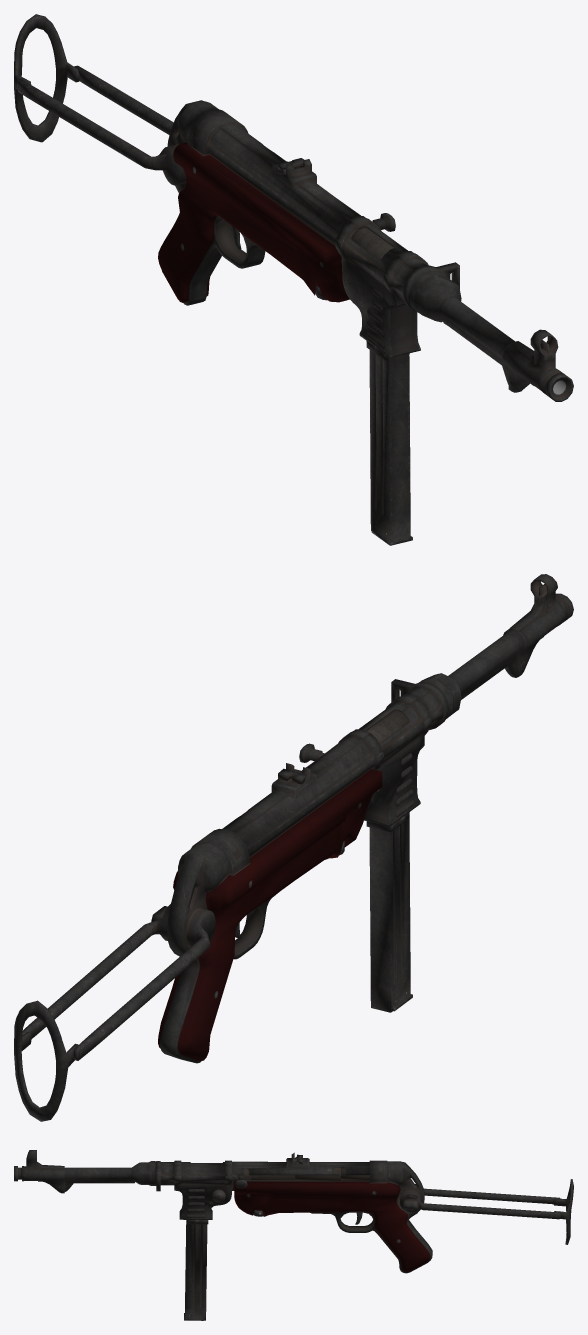
3 renders of one model, top to bottom at view 1: azimuth 30°, elevation 25°; view 2: azimuth 150°, elevation 25°; view 3: azimuth 270°, elevation 25°, orthographic. The views are drawn at different scales.
Parts seen in each view (by area): view 1: korpus_low_Cube.001, magazynek_low_Cube.003, kolba_low_Cube.006, kolba1_low_Cube.005, zamek_low_Cube.009; view 2: korpus_low_Cube.001, magazynek_low_Cube.003, kolba_low_Cube.006, kolba1_low_Cube.005, zamek_low_Cube.009; view 3: korpus_low_Cube.001, kolba_low_Cube.006, magazynek_low_Cube.003, kolba1_low_Cube.005, srodek_low_Cube.010, srodek1_low_Cube.012.
Boxes of the visible parts, bbox=[...] form: korpus_low_Cube.001: bbox=[158, 100, 573, 401]; magazynek_low_Cube.003: bbox=[366, 341, 412, 545]; kolba_low_Cube.006: bbox=[17, 65, 186, 185]; kolba1_low_Cube.005: bbox=[14, 14, 79, 142]; zamek_low_Cube.009: bbox=[351, 213, 395, 259]; korpus_low_Cube.001: bbox=[158, 574, 573, 1063]; magazynek_low_Cube.003: bbox=[366, 812, 412, 1012]; kolba_low_Cube.006: bbox=[22, 904, 215, 1060]; kolba1_low_Cube.005: bbox=[14, 1000, 78, 1121]; zamek_low_Cube.009: bbox=[299, 710, 408, 762]; korpus_low_Cube.001: bbox=[14, 1150, 432, 1273]; kolba_low_Cube.006: bbox=[400, 1188, 560, 1219]; magazynek_low_Cube.003: bbox=[184, 1220, 208, 1320]; kolba1_low_Cube.005: bbox=[553, 1179, 573, 1244]; srodek_low_Cube.010: bbox=[251, 1168, 369, 1180]; srodek1_low_Cube.012: bbox=[295, 1167, 340, 1180].
Size of the model in its own units: 0.0782 by 0.3087 by 0.9362.
1 material, 1 textured.
